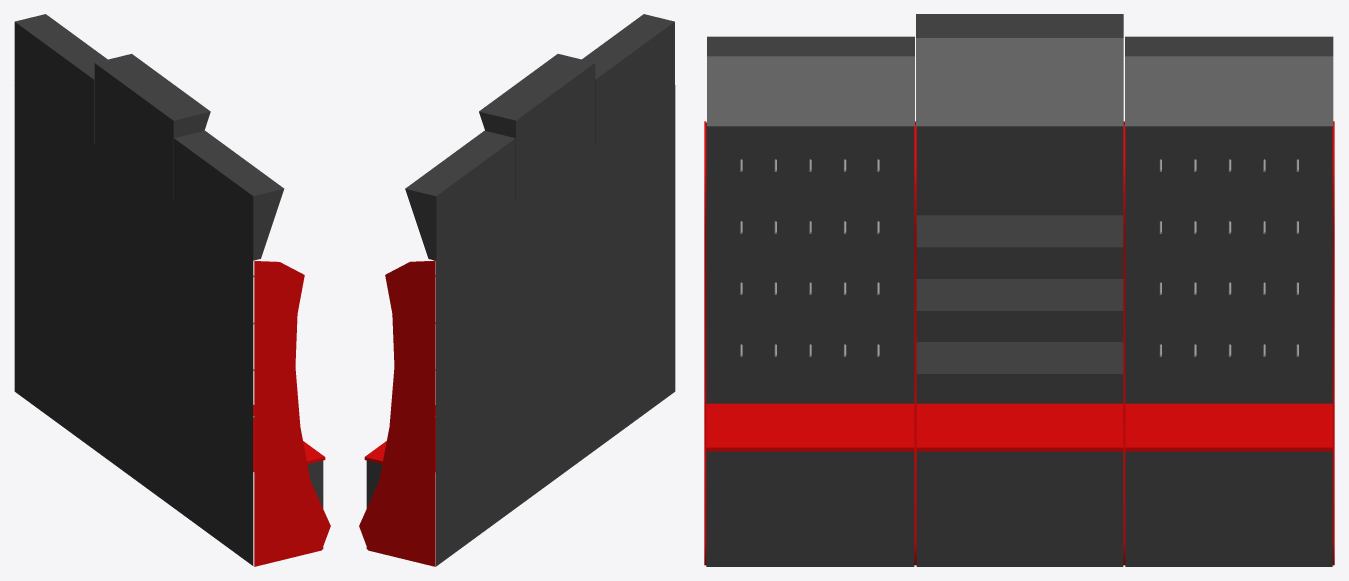
3 views of the same model, side by side, from view 1: azimuth 30°, elevation 25°; view 2: azimuth 150°, elevation 25°; view 3: azimuth 270°, elevation 25° (orthographic). The views are drawn at different scales.
Parts seen in each view (by area): view 1: Estante3; view 2: Estante3; view 3: Estante3.
Part boxes in pixels (<box>): Estante3: <box>14,14,330,566</box>; Estante3: <box>359,14,675,566</box>; Estante3: <box>704,14,1334,566</box>.
Size of the model in its own units: 0.0119 by 0.0572 by 0.0643.
